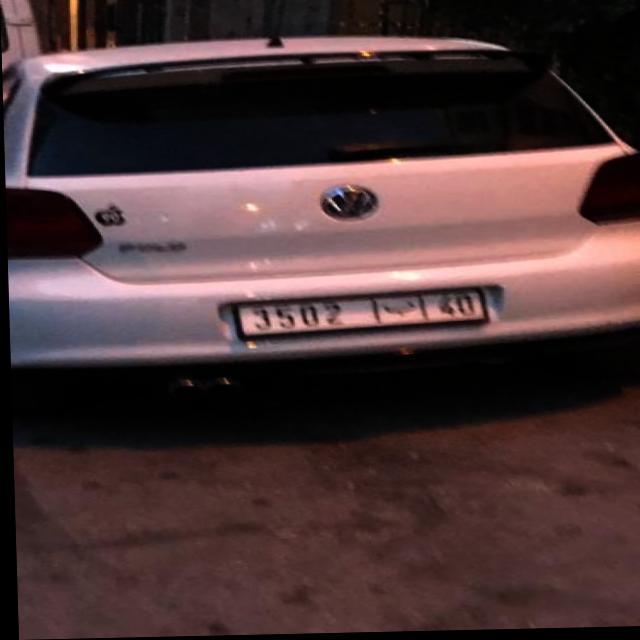License-Plate: (232, 291, 482, 340)
